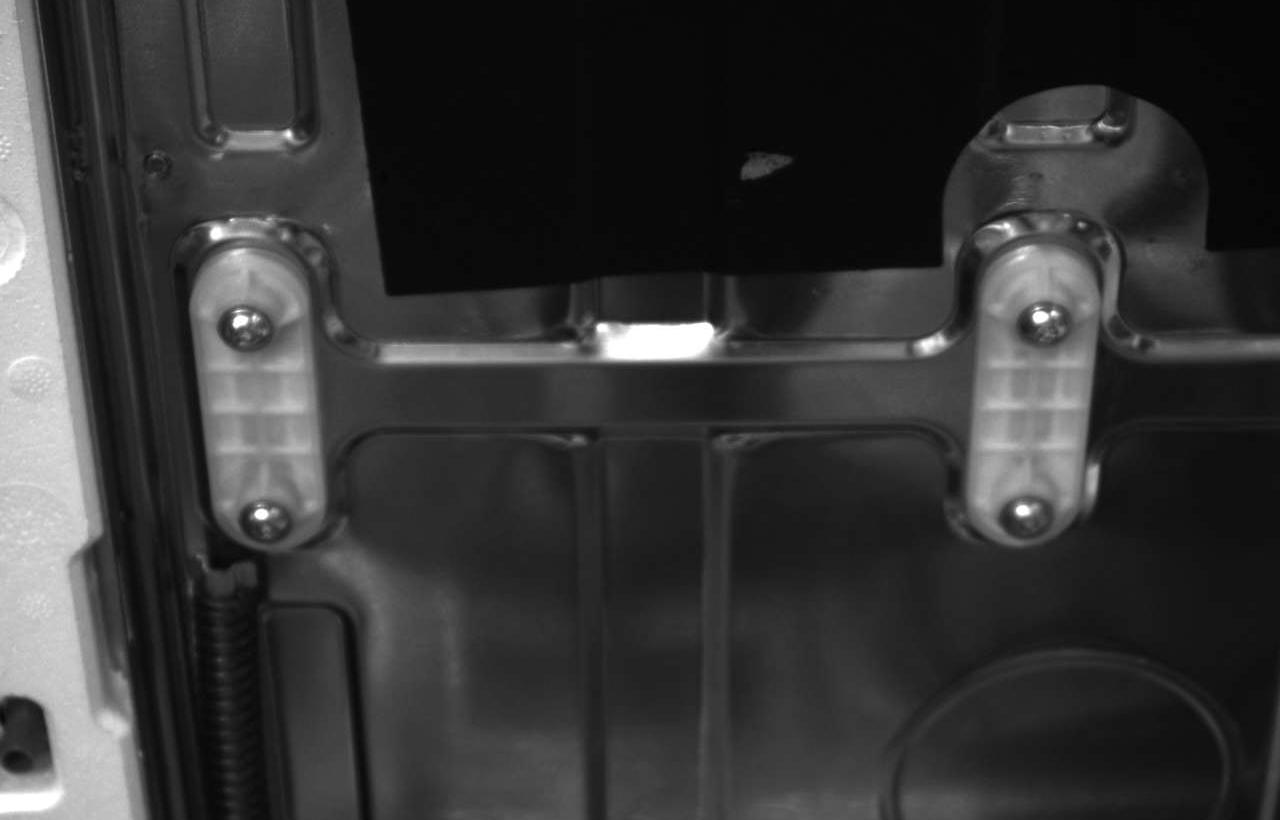vida-ok: (202, 282, 289, 360), (999, 287, 1087, 360), (225, 489, 306, 553), (982, 485, 1057, 543)
